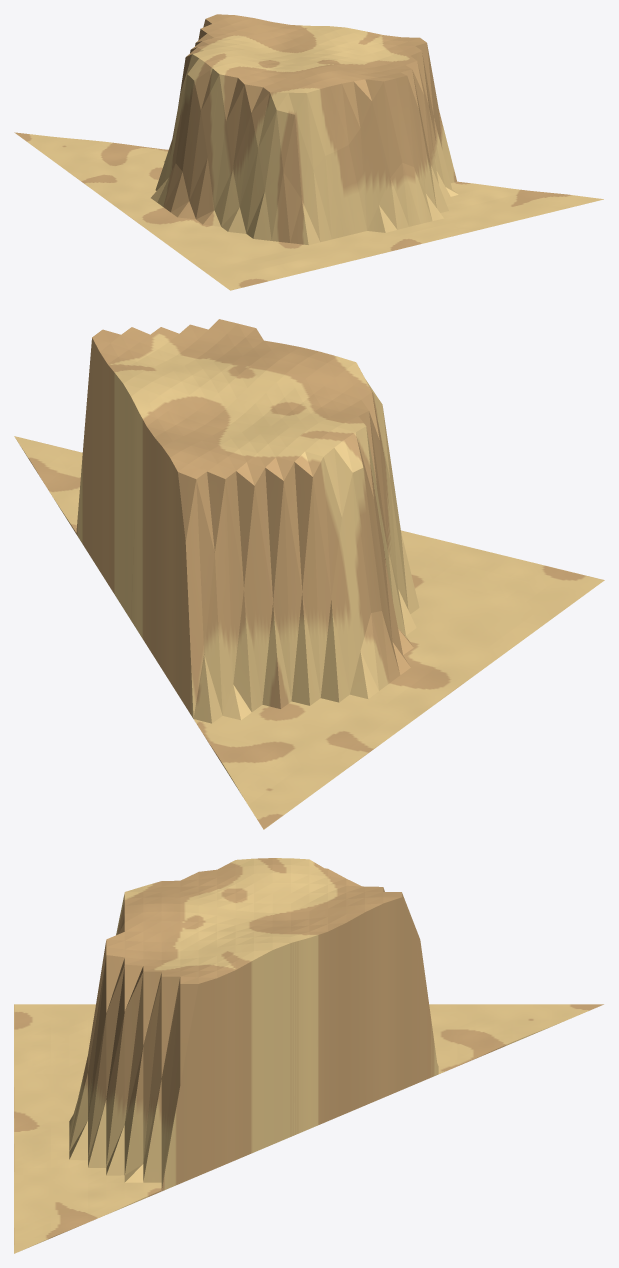
File: Desert_Mountains_06_NW.obj
3 views of the same model, one above another, from view 1: azimuth 30°, elevation 25°; view 2: azimuth 150°, elevation 25°; view 3: azimuth 270°, elevation 25° (orthographic). The views are drawn at different scales.
Size of the model in its own units: 10 by 3.63 by 10.
1 material, 1 textured.
